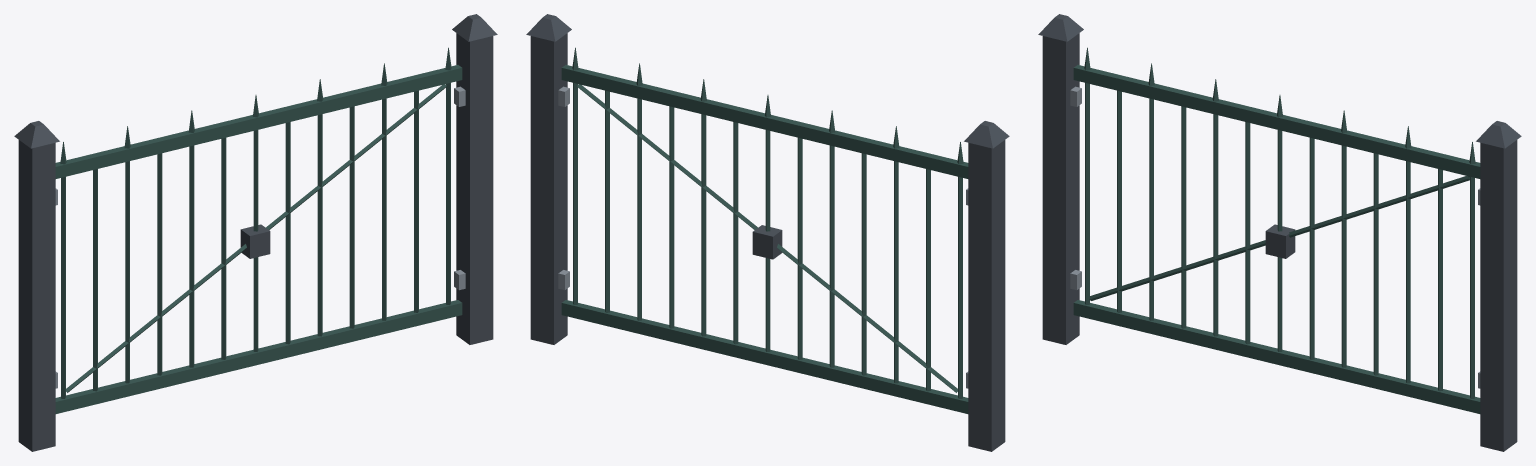
The model's file is fence_metal_gate.glb.
The picture shows the model from 3 angles, left to right: view 1: azimuth 30°, elevation 25°; view 2: azimuth 150°, elevation 25°; view 3: azimuth 330°, elevation 25°; orthographic projection.
Visible parts, largest first — view 1: Body; view 2: Body; view 3: Body.
Boxes of the visible parts, <box> form: Body: <box>14,14,497,451</box>; Body: <box>526,14,1009,451</box>; Body: <box>1038,14,1521,451</box>.
Size of the model in its own units: 3.2 by 2.1 by 0.2.
